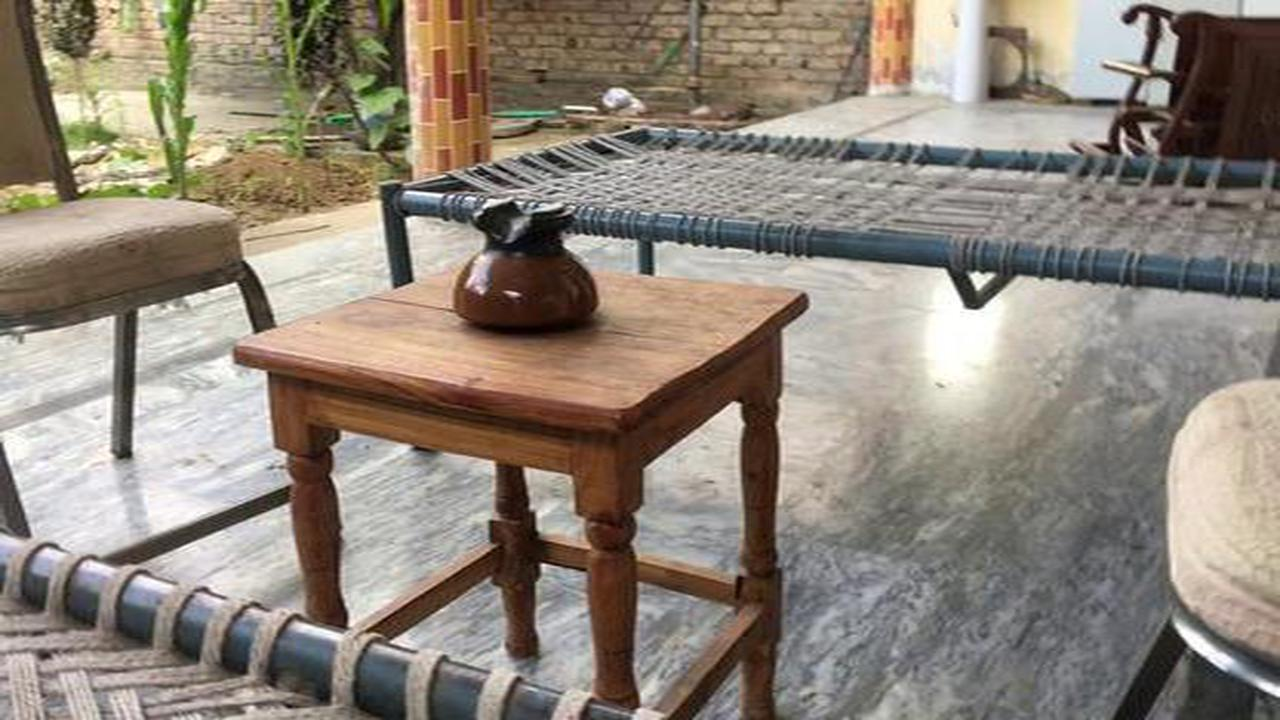insulator_pin: (441, 191, 622, 340)
